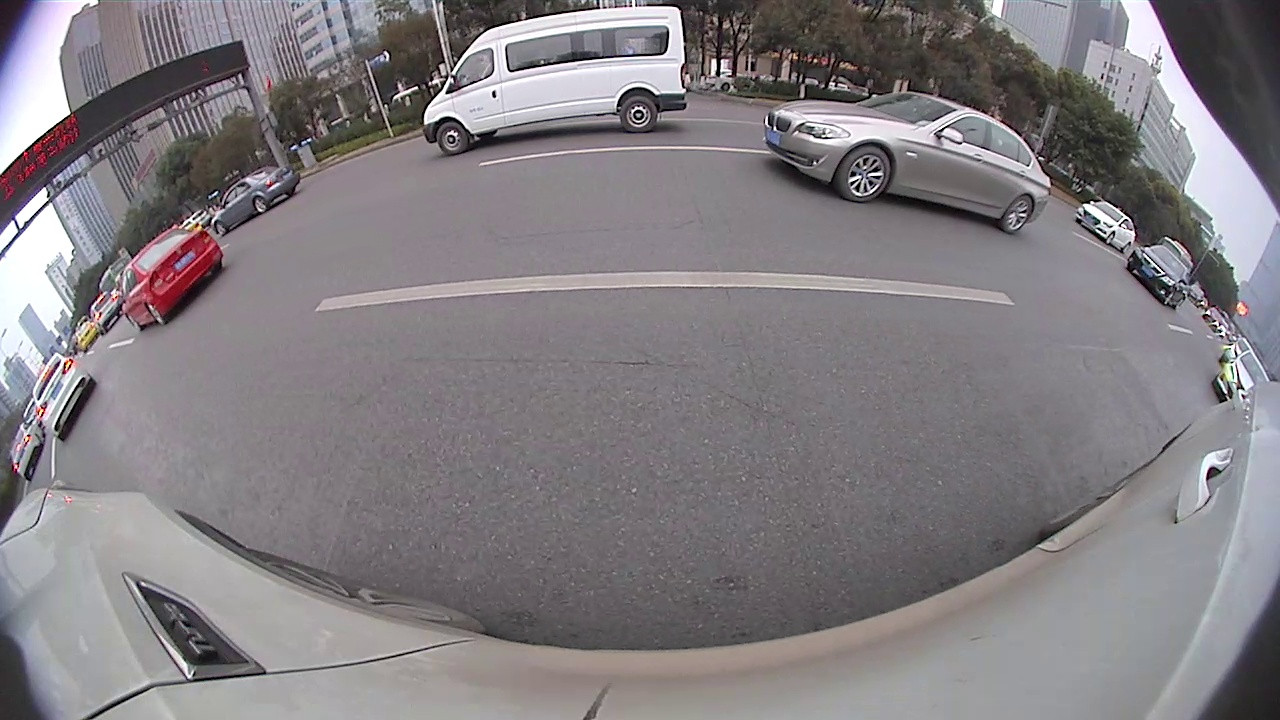car: (763, 93, 1052, 233), (423, 6, 683, 155), (119, 228, 226, 333), (27, 353, 97, 441), (213, 168, 299, 234), (1128, 243, 1191, 311), (1075, 203, 1136, 256), (1213, 352, 1269, 403)
front: (837, 148, 894, 202), (435, 119, 469, 154), (214, 223, 228, 236)
rear: (618, 96, 660, 134), (1000, 194, 1035, 234), (252, 195, 268, 215)
